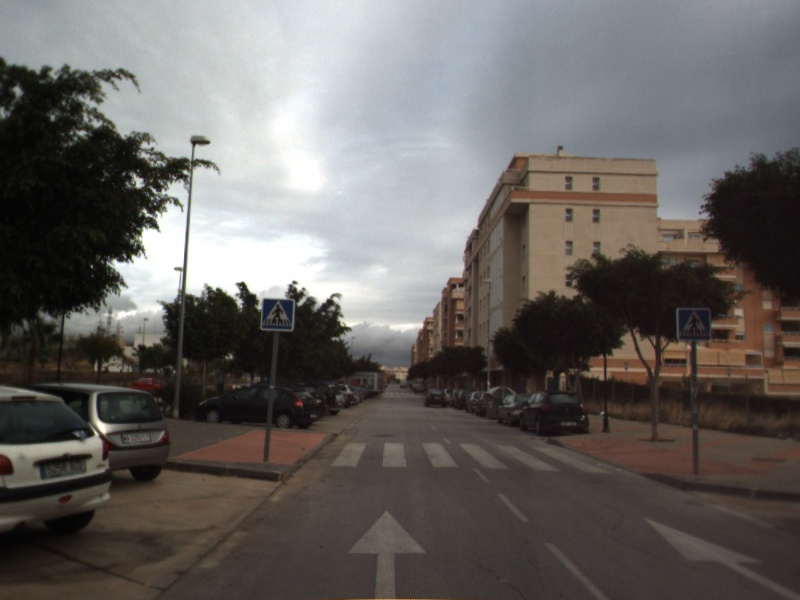STRAIGHT: (642, 515, 800, 600), (345, 508, 428, 600)
